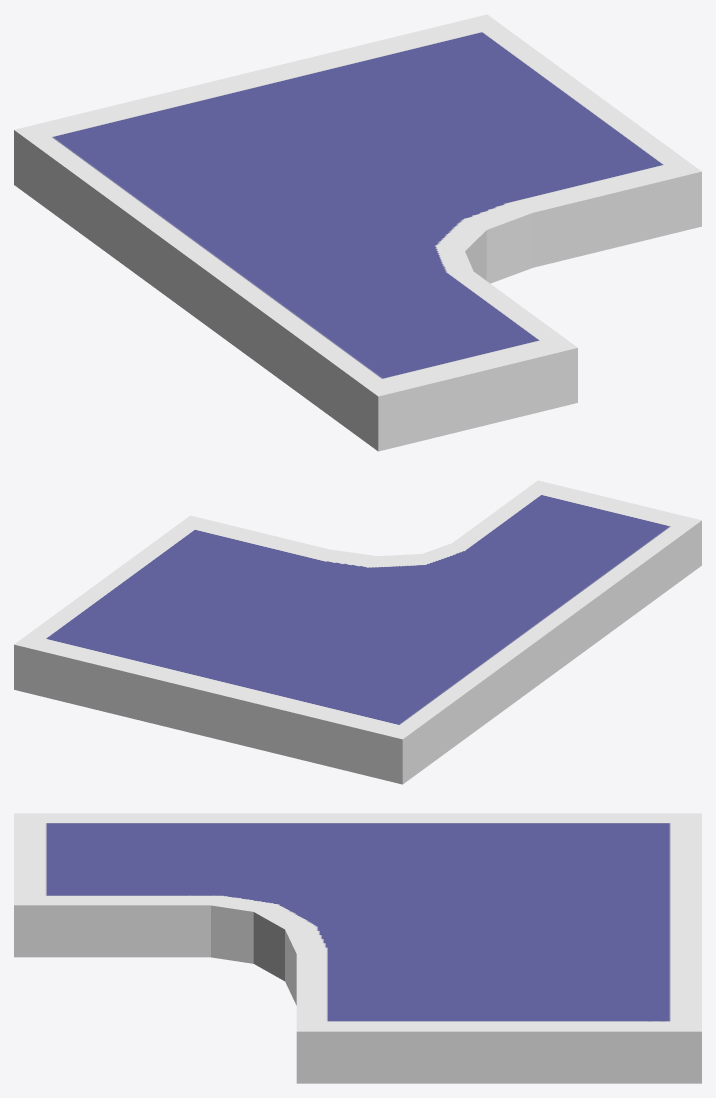
The picture shows the model from 3 angles, top to bottom: view 1: azimuth 30°, elevation 25°; view 2: azimuth 150°, elevation 25°; view 3: azimuth 270°, elevation 25°; orthographic projection. The views are drawn at different scales.
Parts seen in each view (by area): view 1: ground; view 2: ground; view 3: ground.
Boxes of the visible parts, left/top/right/bottom form: ground: left=14, top=14, right=701, bottom=451; ground: left=14, top=480, right=701, bottom=784; ground: left=14, top=813, right=701, bottom=1083.
Bounding box in the file's own units: 45 × 5 × 60.
Materials: 1 (1 with a texture image).
